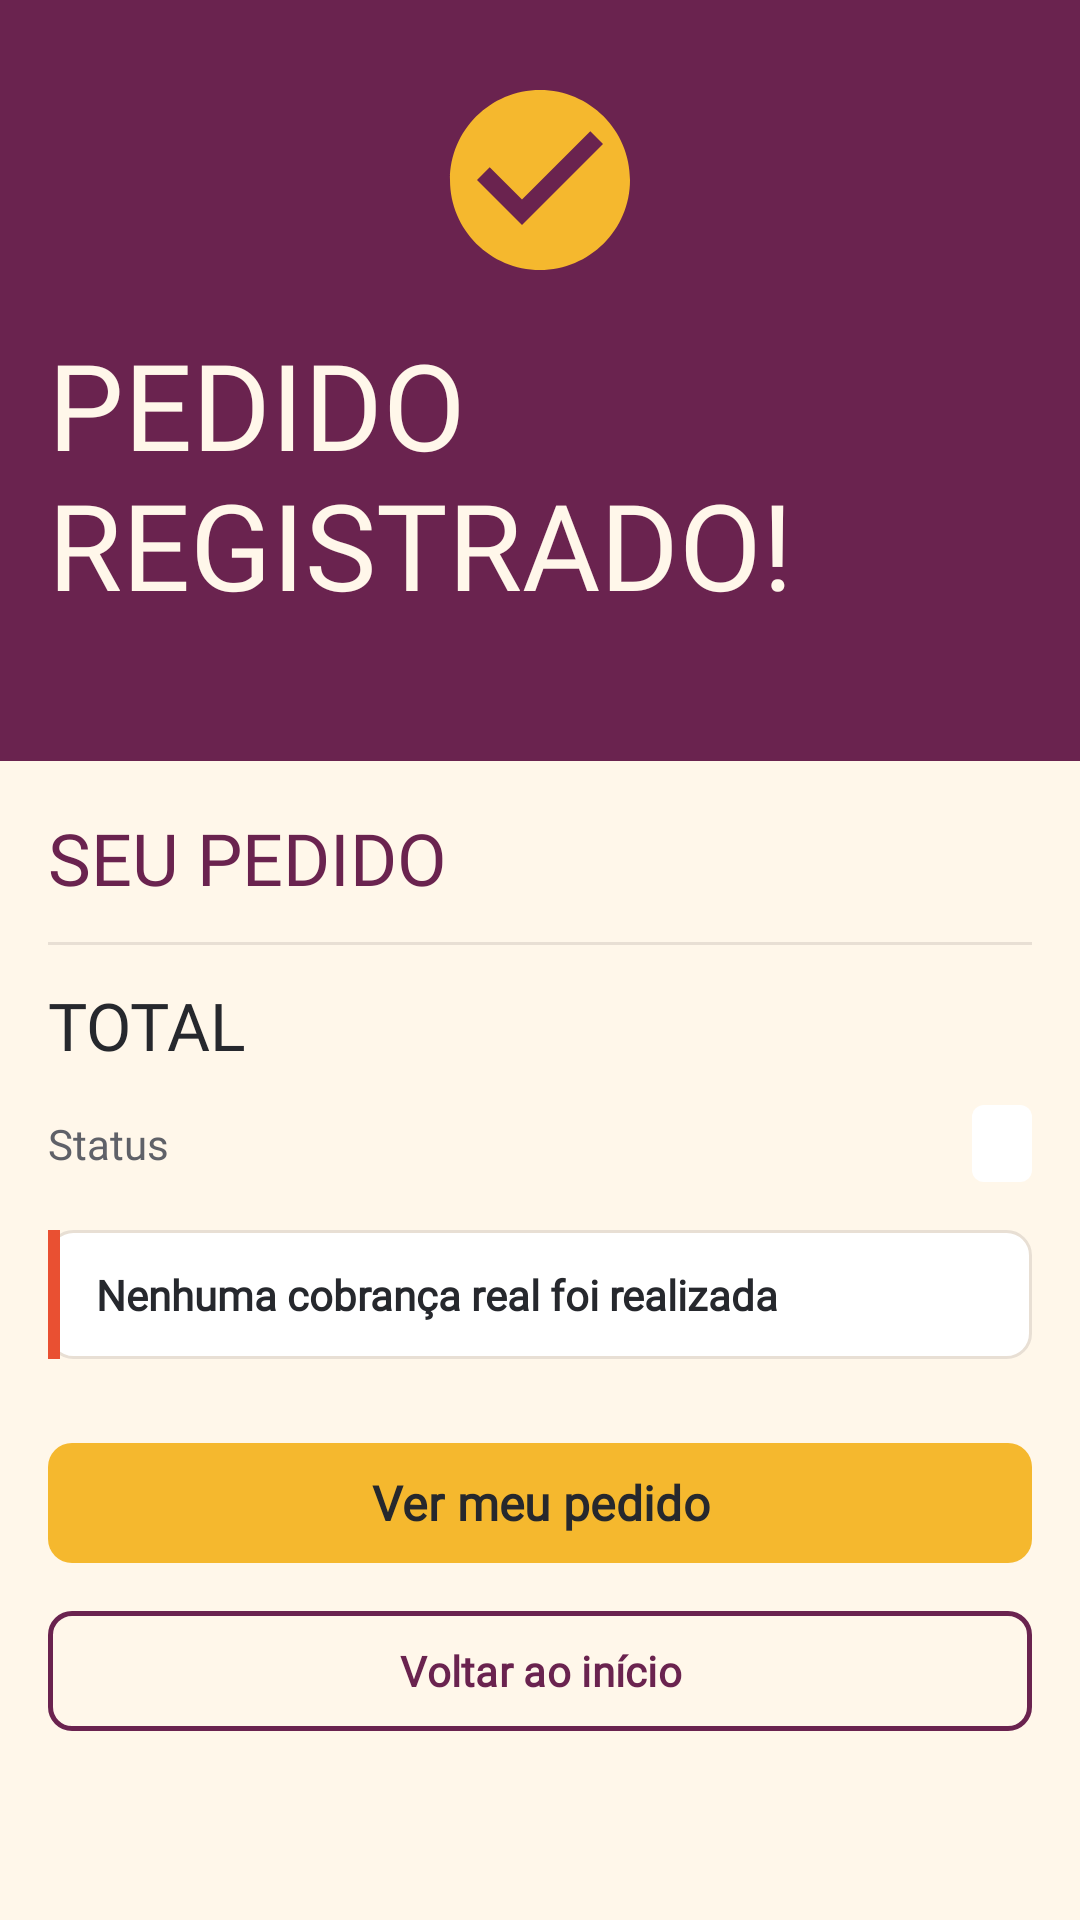

Named icons in this screenshot (1080px×1920px) and their centers, (x=x, y=y):
Sucesso: (x=540, y=180)
